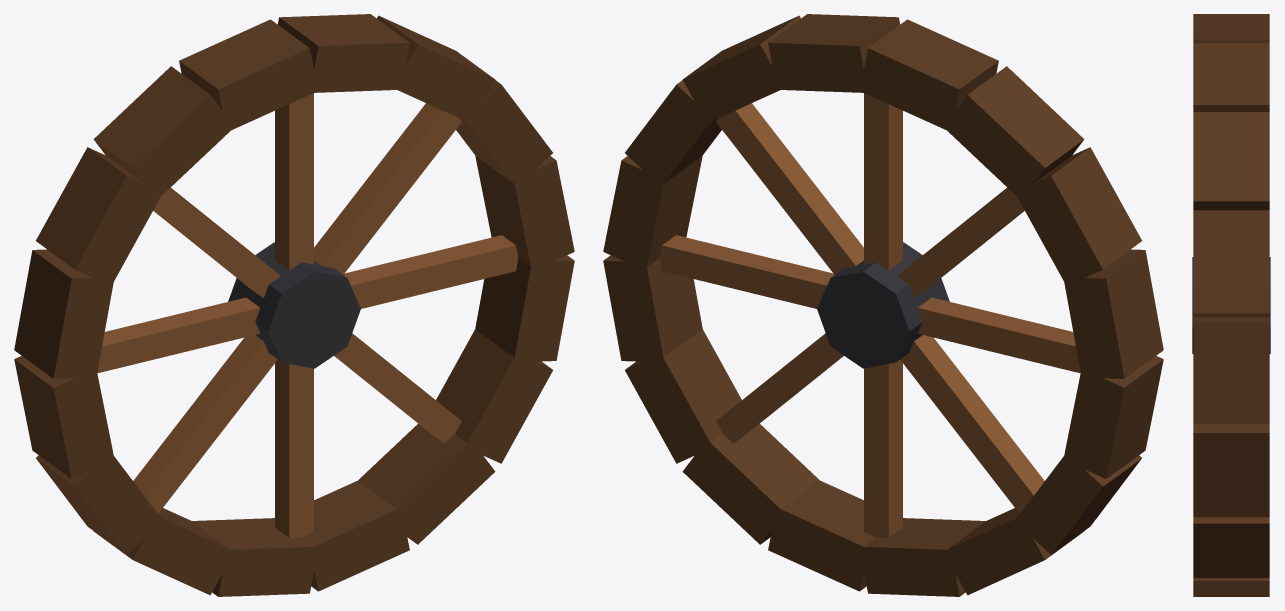
The model's file is Cart_Wheel.fbx.
3 renders of one model, left to right at view 1: azimuth 30°, elevation 25°; view 2: azimuth 150°, elevation 25°; view 3: azimuth 270°, elevation 25°, orthographic. The views are drawn at different scales.
Visible parts, largest first — view 1: Cart_Wheel; view 2: Cart_Wheel; view 3: Cart_Wheel.
Part boxes in pixels (x1,y1,x2,y2): Cart_Wheel: (14,14,574,596); Cart_Wheel: (603,14,1163,596); Cart_Wheel: (1192,14,1270,596).
Bounding box in the file's own units: 0.9527 × 0.9527 × 0.128.
